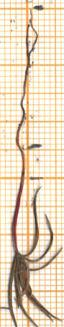flower: (0, 249, 64, 327)
root: (12, 7, 40, 148)
stem: (8, 147, 30, 251)
